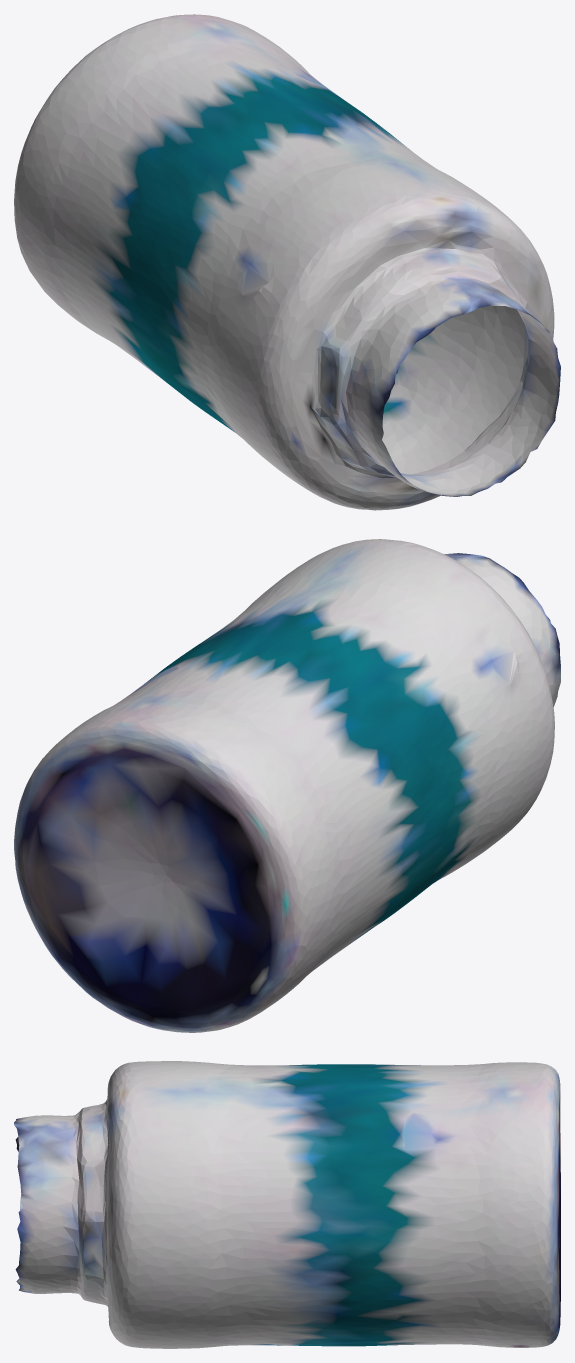
The model's file is scan.obj.
3 renders of one model, top to bottom at view 1: azimuth 30°, elevation 25°; view 2: azimuth 150°, elevation 25°; view 3: azimuth 270°, elevation 25°, orthographic. The views are drawn at different scales.
Visible parts, largest first — view 1: scan.ply; view 2: scan.ply; view 3: scan.ply.
Boxes of the visible parts, left/top/right/bottom form: scan.ply: left=14, top=14, right=560, bottom=510; scan.ply: left=14, top=539, right=560, bottom=1032; scan.ply: left=14, top=1061, right=560, bottom=1348.
Bounding box in the file's own units: 0.0627 × 0.0626 × 0.119.
